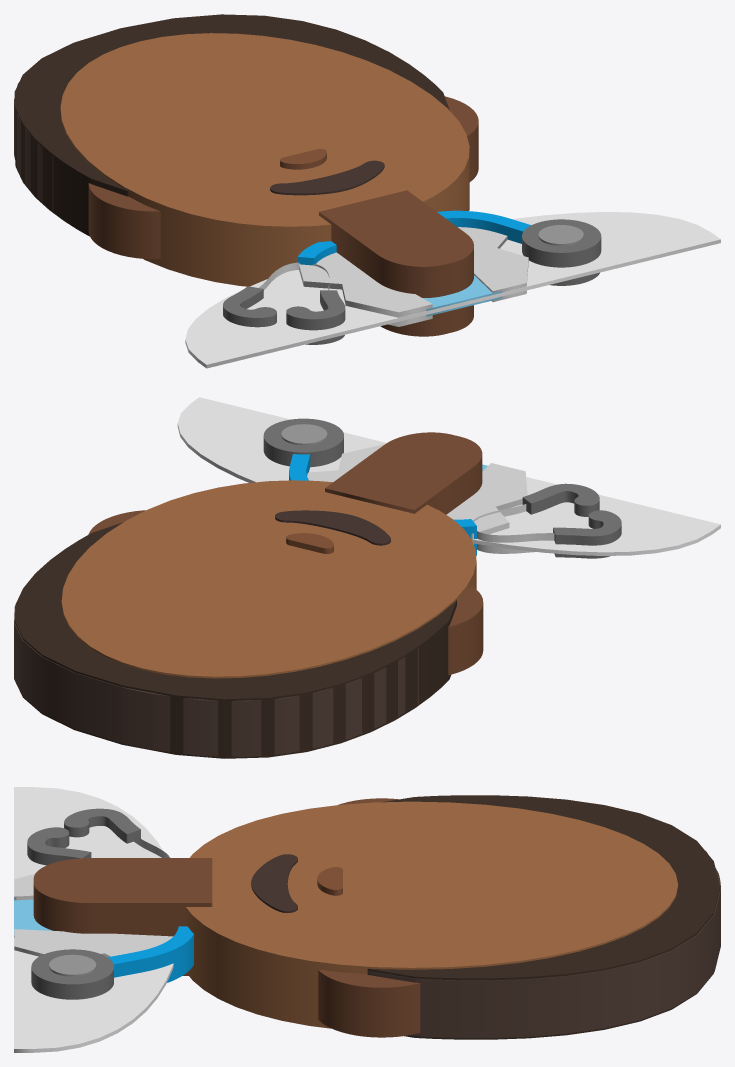
File: emoji_u1f468_1f3fe_200d_2695.glb
3 renders of one model, top to bottom at view 1: azimuth 30°, elevation 25°; view 2: azimuth 150°, elevation 25°; view 3: azimuth 270°, elevation 25°, orthographic. The views are drawn at different scales.
Parts seen in each view (by area): view 1: emoji_u1f468_1f3fe_200d_2695; view 2: emoji_u1f468_1f3fe_200d_2695; view 3: emoji_u1f468_1f3fe_200d_2695.
Boxes of the visible parts, <box> form: emoji_u1f468_1f3fe_200d_2695: <box>14,14,720,368</box>; emoji_u1f468_1f3fe_200d_2695: <box>14,397,720,758</box>; emoji_u1f468_1f3fe_200d_2695: <box>14,787,720,1052</box>.
Bounding box in the file's own units: 0.0293 × 0.004 × 0.0334.
